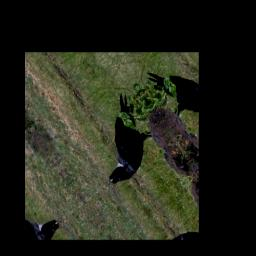Crow: (72, 89, 169, 191)
